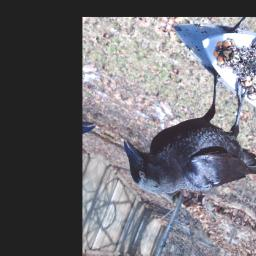Crow: (111, 40, 256, 235)
